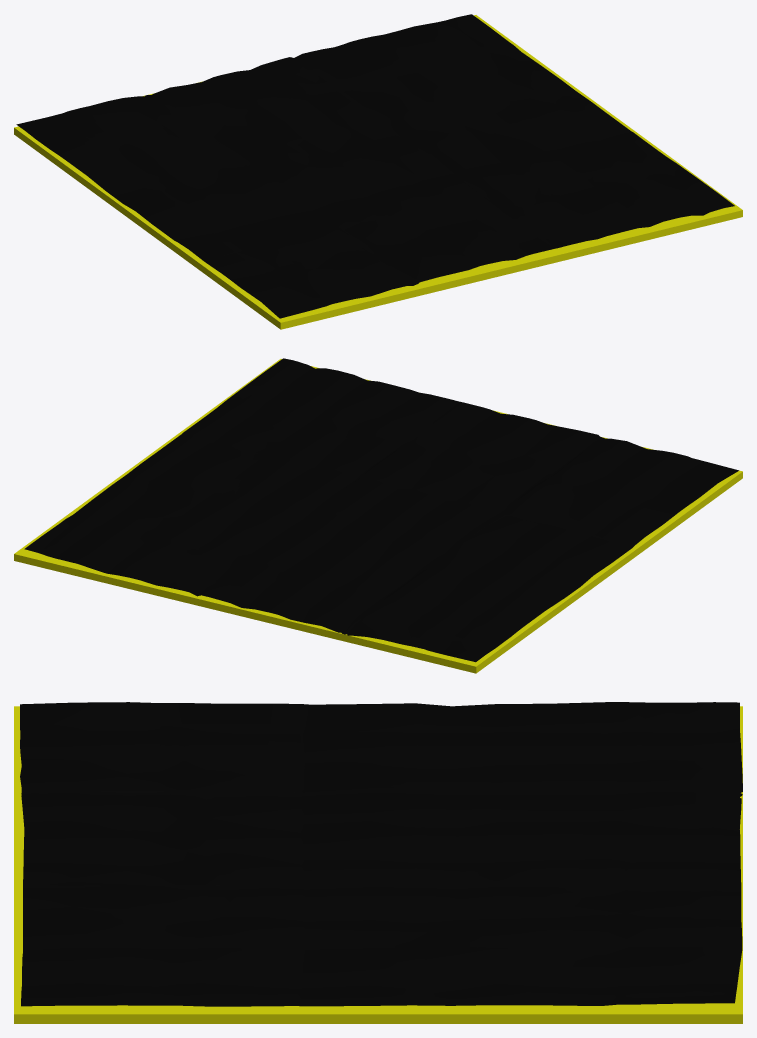
The model's file is P_Floor_3_low.fbx.
3 views of the same model, one above another, from view 1: azimuth 30°, elevation 25°; view 2: azimuth 150°, elevation 25°; view 3: azimuth 270°, elevation 25° (orthographic). The views are drawn at different scales.
Parts seen in each view (by area): view 1: P_Floor_low; view 2: P_Floor_low; view 3: P_Floor_low.
Part boxes in pixels (x1,y1,x2,y2): P_Floor_low: (14,14,742,329); P_Floor_low: (14,358,742,673); P_Floor_low: (14,702,742,1023).
Bounding box in the file's own units: 700 × 18.6 × 700.
